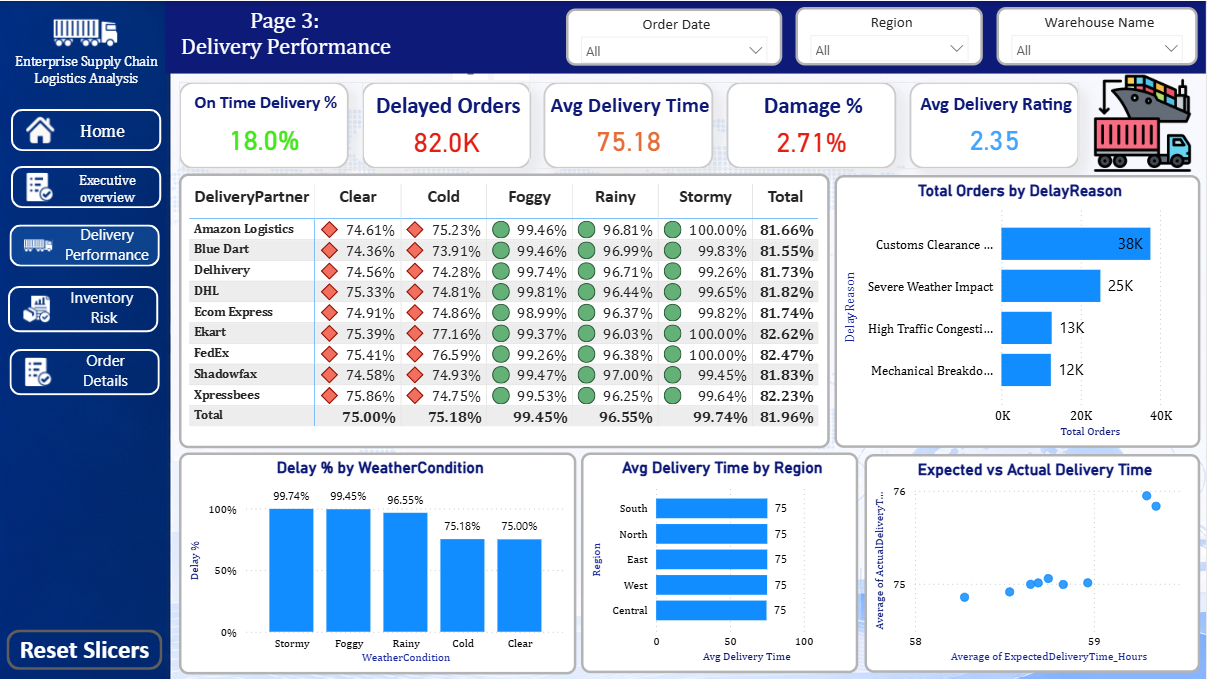

This screenshot's page, from the dashboard's own definition file:
{"tool":"powerbi","page":{"name":"Delivery Performance","canvas":[1280,720],"ordinal":2},"visuals":[{"type":"group","id":"g1","title":"SideBar","box":[0,0,186.8,427.5],"z":0},{"type":"image","box":[0,0,183,67.4],"z":0,"group":"g1"},{"type":"actionButton","box":[12.7,114.4,159.3,44.6],"z":0,"group":"g4"},{"type":"actionButton","box":[12.7,175.1,159.3,44.6],"z":0,"group":"g3"},{"type":"actionButton","box":[11.8,237.1,159.3,44.6],"z":0,"group":"g5"},{"type":"actionButton","box":[10,301,159.3,49],"z":0,"group":"g6"},{"type":"actionButton","box":[11.1,368.3,159.3,49],"z":0,"group":"g7"},{"type":"textbox","box":[0,50.1,184.9,52],"z":1000,"group":"g1"},{"type":"group","id":"g2","title":"Group 6","box":[191.3,85.9,954.4,92.3],"z":1000},{"type":"card","title":"On Time Delivery %","fields":{"Values":["Measure.On Time Delivery %"]},"box":[191.3,85.9,179.7,92.3],"z":1000,"group":"g2"},{"type":"textbox","box":[70.2,120.8,78.8,33.4],"z":1000,"group":"g4"},{"type":"textbox","box":[63.6,175.1,101.8,55.7],"z":1000,"group":"g3"},{"type":"textbox","box":[43.6,231.3,143.2,57.8],"z":1000,"group":"g5"},{"type":"textbox","box":[39.8,296.7,143.2,63.6],"z":1000,"group":"g6"},{"type":"textbox","box":[40.9,364,143.2,63.6],"z":1000,"group":"g7"},{"type":"textbox","box":[176.1,0,1103.9,76.3],"z":2000},{"type":"group","id":"g3","title":"Group 1","box":[12.7,175.1,159.3,55.7],"z":2000,"group":"g1"},{"type":"card","title":"Delayed Orders","fields":{"Values":["Measure.Delayed Orders"]},"box":[385.1,85.9,179,92.3],"z":3000,"group":"g2"},{"type":"group","id":"g4","title":"Group 2","box":[12.7,114.4,159.3,44.6],"z":3000,"group":"g1"},{"type":"clusteredBarChart","fields":{"Category":["Dim_Supplier.DelayReason"],"Y":["Measure.Total Orders"]},"box":[886,184.5,388.1,289.5],"z":3000},{"type":"card","title":"Avg Delivery Time","fields":{"Values":["Measure.Avg Delivery Time"]},"box":[578.2,85.9,179.7,92.3],"z":4000,"group":"g2"},{"type":"group","id":"g5","title":"Group 3","box":[11.8,231.3,175,57.8],"z":4000,"group":"g1"},{"type":"clusteredColumnChart","fields":{"Category":["Fact_Orders.WeatherCondition"],"Y":["Measure.Delay %"]},"box":[190.9,478.8,421.5,235.4],"z":4000},{"type":"card","title":"Damage %","fields":{"Values":["Measure.Damage %"]},"box":[772.1,85.9,179.7,92.3],"z":5000,"group":"g2"},{"type":"group","id":"g6","title":"Group 4","box":[10,296.7,173,63.6],"z":5000,"group":"g1"},{"type":"clusteredBarChart","fields":{"Y":["Measure.Avg Delivery Time"],"Category":["Fact_Orders.Region"]},"box":[617.2,478.8,294.3,233.8],"z":5000},{"type":"pivotTable","fields":{"Columns":["Fact_Orders.WeatherCondition"],"Values":["Measure.Delay %"],"Rows":["Dim_Partner.DeliveryPartner"]},"box":[190.9,182.9,690.3,291.1],"z":6000},{"type":"group","id":"g7","title":"Group 5","box":[11.1,364,173,63.6],"z":6000,"group":"g1"},{"type":"card","title":"Avg Delivery Rating","fields":{"Values":["Measure.Avg Rating"]},"box":[965.9,85.9,179.7,92.3],"z":7000,"group":"g2"},{"type":"scatterChart","title":"Expected vs Actual Delivery Time","fields":{"Category":["Dim_Partner.DeliveryPartner"],"X":["Avg(Fact_Orders.ExpectedDeliveryTime_Hours)"],"Y":["Avg(Fact_Orders.ActualDeliveryTime_Hours)"]},"box":[917.8,480.4,356.3,232.2],"z":7000},{"type":"slicer","title":"Order Date","fields":{"Values":["Fact_Orders.OrderDate.Variation.Date Hierarchy.Year","Fact_Orders.OrderDate.Variation.Date Hierarchy.Quarter","Fact_Orders.OrderDate.Variation.Date Hierarchy.Month","Fact_Orders.OrderDate.Variation.Date Hierarchy.Day"]},"box":[601.3,8,229,60.4],"z":8000},{"type":"slicer","title":"Region","fields":{"Values":["Fact_Orders.Region"]},"box":[844.6,6.4,198.8,62],"z":9000},{"type":"slicer","title":"Warehouse Name","fields":{"Values":["Dim_Warehouse.WarehouseName"]},"box":[1057.8,6.4,213.1,62],"z":10000},{"type":"actionButton","box":[8,666.5,165.4,42.9],"z":10001},{"type":"image","box":[1144.8,76.3,135.2,106.6],"z":10002}]}

Visuals, with their boxes in screenshot pixels (x1, y1, x2, y2), scaled from the page's 1280x720 canvas onto the 1207x679 screenshot:
"SideBar" group: [x1=0, y1=0, x2=176, y2=403]
image: [x1=0, y1=0, x2=173, y2=64]
actionButton: [x1=12, y1=108, x2=162, y2=150]
actionButton: [x1=12, y1=165, x2=162, y2=207]
actionButton: [x1=11, y1=224, x2=161, y2=266]
actionButton: [x1=9, y1=284, x2=160, y2=330]
actionButton: [x1=10, y1=347, x2=161, y2=394]
textbox: [x1=0, y1=47, x2=174, y2=96]
"Group 6" group: [x1=180, y1=81, x2=1080, y2=168]
"On Time Delivery %" card: [x1=180, y1=81, x2=350, y2=168]
textbox: [x1=66, y1=114, x2=141, y2=145]
textbox: [x1=60, y1=165, x2=156, y2=218]
textbox: [x1=41, y1=218, x2=176, y2=273]
textbox: [x1=38, y1=280, x2=173, y2=340]
textbox: [x1=39, y1=343, x2=174, y2=403]
textbox: [x1=166, y1=0, x2=1206, y2=72]
"Group 1" group: [x1=12, y1=165, x2=162, y2=218]
"Delayed Orders" card: [x1=363, y1=81, x2=532, y2=168]
"Group 2" group: [x1=12, y1=108, x2=162, y2=150]
clusteredBarChart - Dim_Supplier.DelayReason x Measure.Total Orders: [x1=835, y1=174, x2=1201, y2=447]
"Avg Delivery Time" card: [x1=545, y1=81, x2=715, y2=168]
"Group 3" group: [x1=11, y1=218, x2=176, y2=273]
clusteredColumnChart - Fact_Orders.WeatherCondition x Measure.Delay %: [x1=180, y1=452, x2=577, y2=674]
"Damage %" card: [x1=728, y1=81, x2=898, y2=168]
"Group 4" group: [x1=9, y1=280, x2=173, y2=340]
clusteredBarChart - Measure.Avg Delivery Time x Fact_Orders.Region: [x1=582, y1=452, x2=860, y2=672]
pivotTable - Fact_Orders.WeatherCondition x Measure.Delay %: [x1=180, y1=172, x2=831, y2=447]
"Group 5" group: [x1=10, y1=343, x2=174, y2=403]
"Avg Delivery Rating" card: [x1=911, y1=81, x2=1080, y2=168]
"Expected vs Actual Delivery Time" scatterChart: [x1=865, y1=453, x2=1201, y2=672]
"Order Date" slicer: [x1=567, y1=8, x2=783, y2=65]
"Region" slicer: [x1=796, y1=6, x2=984, y2=65]
"Warehouse Name" slicer: [x1=997, y1=6, x2=1198, y2=65]
actionButton: [x1=8, y1=629, x2=164, y2=669]
image: [x1=1080, y1=72, x2=1206, y2=172]
